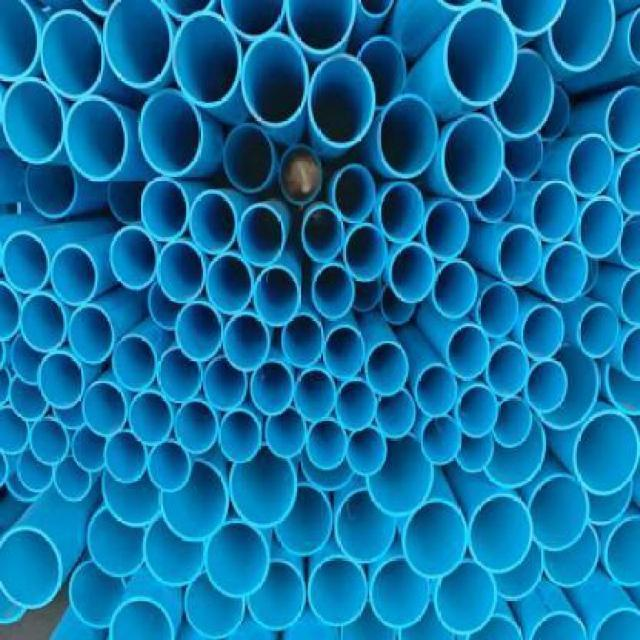pipe: (444, 2, 518, 107), (172, 10, 240, 107), (241, 32, 310, 126), (308, 53, 376, 147), (102, 0, 173, 88), (159, 458, 230, 543), (490, 48, 555, 139), (366, 433, 435, 518), (229, 442, 298, 527), (40, 10, 105, 99), (572, 410, 640, 495), (138, 89, 203, 177), (64, 96, 129, 182), (2, 78, 65, 164), (442, 114, 505, 199), (536, 345, 599, 430), (205, 520, 271, 600), (0, 526, 63, 609), (403, 498, 469, 577), (469, 495, 534, 574), (378, 94, 438, 178), (527, 473, 589, 553), (548, 0, 616, 71), (434, 560, 497, 634), (335, 487, 397, 562), (369, 556, 431, 629), (485, 416, 547, 487), (144, 517, 205, 586), (274, 484, 333, 555), (86, 507, 145, 578), (248, 559, 307, 630), (184, 571, 246, 637), (308, 557, 367, 625), (70, 560, 128, 628), (285, 0, 358, 54), (543, 522, 600, 587), (224, 123, 275, 192), (358, 37, 406, 110), (0, 0, 42, 83), (103, 467, 160, 527), (575, 470, 637, 524), (189, 189, 238, 254), (567, 132, 615, 197), (576, 196, 624, 261), (109, 225, 157, 290), (140, 178, 189, 241), (157, 240, 206, 303), (50, 243, 99, 306), (109, 594, 177, 639), (531, 180, 579, 243), (237, 203, 285, 266), (2, 231, 50, 294), (175, 300, 223, 362), (68, 303, 116, 365), (25, 164, 79, 219), (379, 183, 425, 246), (278, 144, 324, 206), (206, 253, 252, 315), (432, 258, 478, 320), (254, 265, 299, 327), (20, 292, 66, 352), (222, 313, 270, 370), (37, 353, 85, 410), (389, 245, 435, 304), (425, 200, 470, 260), (544, 243, 589, 303), (497, 226, 542, 285), (250, 360, 296, 416), (521, 304, 566, 361), (604, 516, 640, 587), (83, 381, 127, 437), (333, 166, 376, 223), (344, 226, 387, 283), (220, 0, 286, 37), (112, 336, 157, 390), (218, 409, 263, 463), (148, 439, 193, 493), (301, 206, 344, 262), (312, 264, 355, 320), (281, 312, 324, 368), (366, 341, 409, 397), (130, 390, 173, 446), (157, 348, 202, 401), (524, 360, 569, 413), (448, 324, 490, 380), (324, 325, 366, 381), (104, 431, 148, 484), (577, 303, 620, 357), (486, 342, 529, 396), (204, 357, 247, 411), (456, 385, 499, 439), (175, 400, 218, 454), (605, 86, 639, 154), (473, 170, 516, 223), (414, 364, 457, 417), (477, 283, 519, 337), (294, 368, 336, 421), (335, 378, 377, 431), (307, 418, 349, 471), (265, 407, 307, 458), (347, 426, 389, 477), (492, 398, 532, 449), (420, 417, 462, 465), (377, 389, 415, 440), (538, 86, 572, 143), (503, 134, 543, 182), (8, 375, 50, 420), (30, 418, 68, 467), (107, 181, 149, 224), (11, 334, 45, 387), (606, 365, 640, 418), (54, 457, 93, 503), (71, 424, 107, 473), (16, 449, 55, 494), (454, 432, 494, 474), (528, 611, 587, 639), (148, 281, 181, 330), (0, 407, 31, 455), (380, 284, 416, 324), (618, 270, 640, 326), (618, 326, 640, 380), (619, 214, 639, 271), (352, 276, 383, 312), (358, 0, 393, 17)
